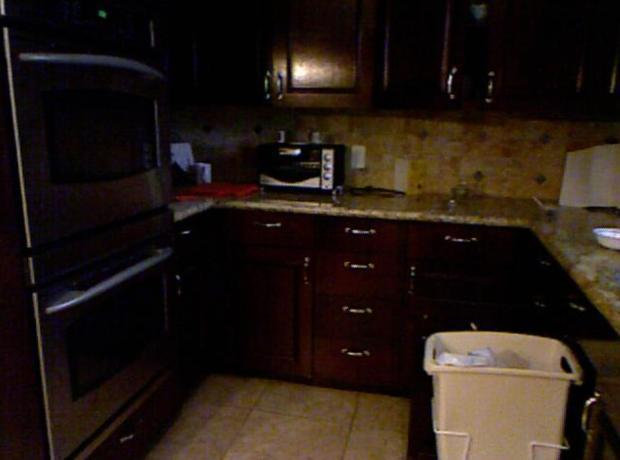Bote de Basura: (429, 331, 578, 456)
